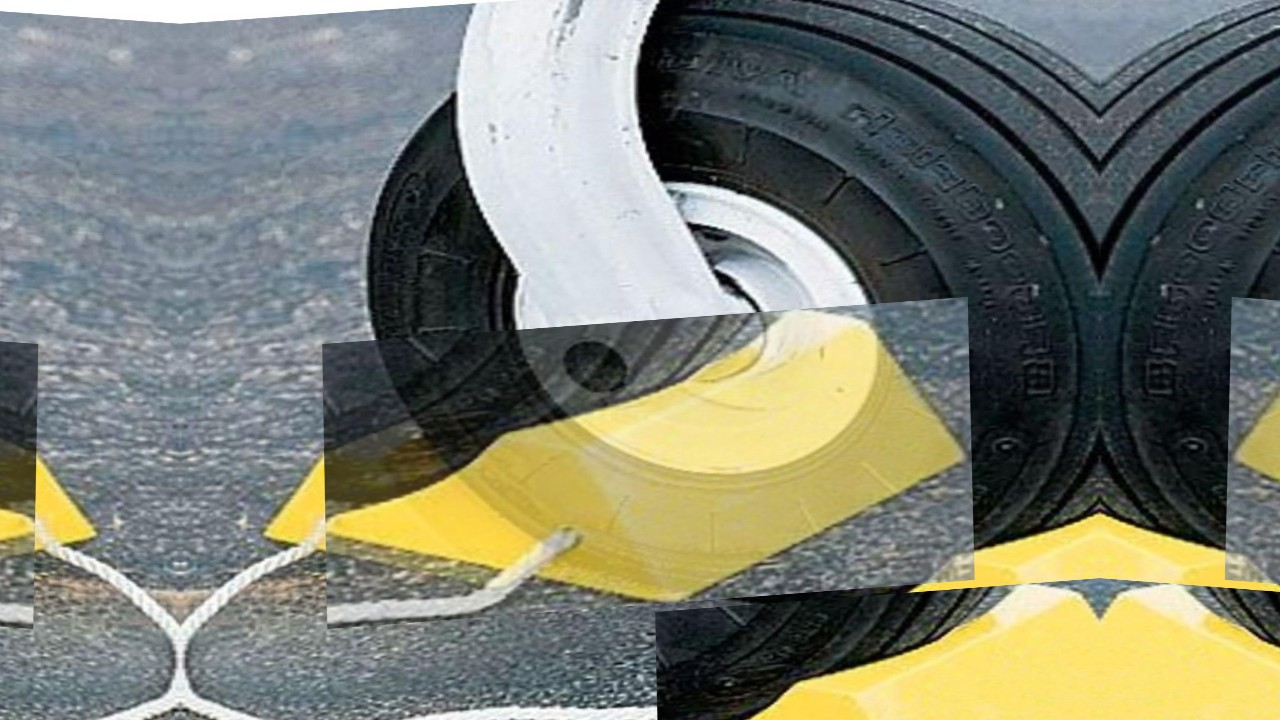chock: (322, 297, 975, 629), (256, 390, 645, 607), (811, 445, 1100, 713), (655, 574, 1100, 720), (1100, 445, 1280, 713), (1100, 574, 1280, 720), (0, 390, 104, 607)
wheel: (352, 0, 1100, 652), (1100, 0, 1280, 652)
